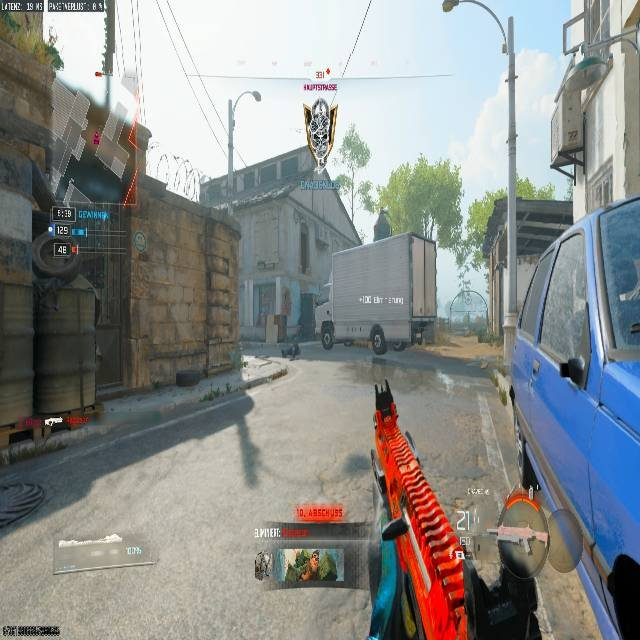player: (368, 321, 386, 360), (318, 311, 334, 351)
